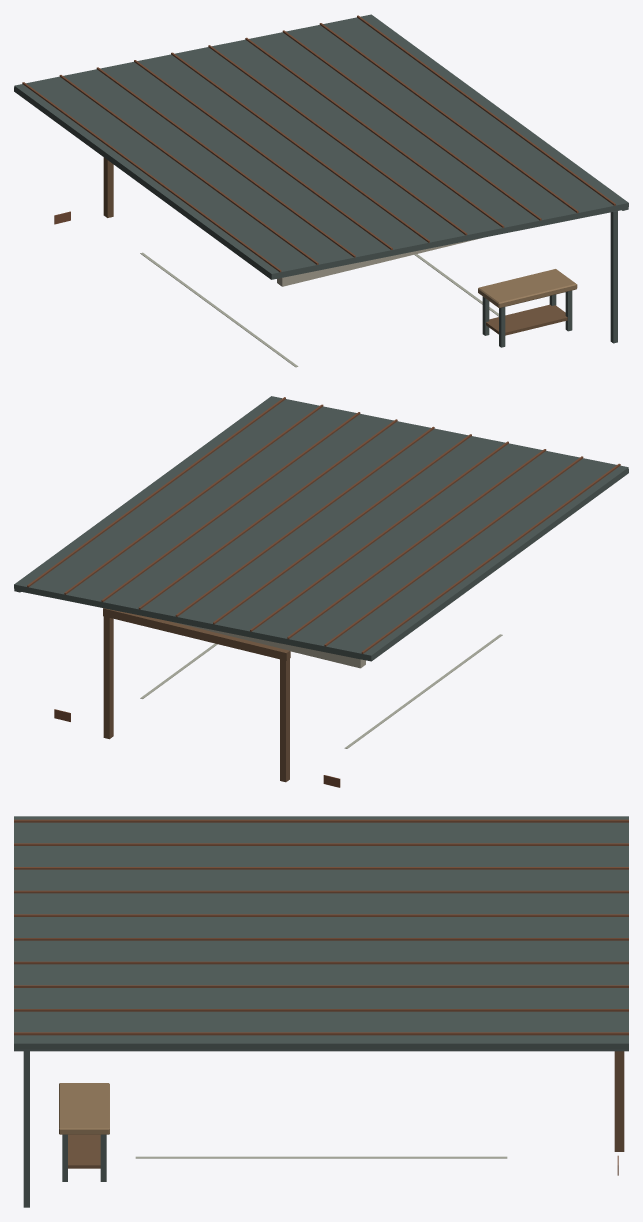
The model's file is home_garage.glb.
The picture shows the model from 3 angles, top to bottom: view 1: azimuth 30°, elevation 25°; view 2: azimuth 150°, elevation 25°; view 3: azimuth 270°, elevation 25°; orthographic projection. The views are drawn at different scales.
Parts seen in each view (by area): view 1: home_garage; view 2: home_garage; view 3: home_garage.
Part boxes in pixels (left/top/right/bottom): home_garage: left=14, top=14, right=628, bottom=367; home_garage: left=14, top=396, right=628, bottom=787; home_garage: left=14, top=816, right=628, bottom=1207.
Bounding box in the file's own units: 7.7 × 3.25 × 9.6.
